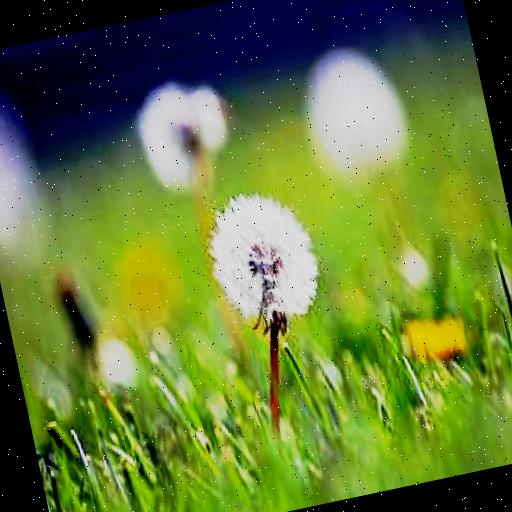dandelion: (198, 182, 326, 333)
